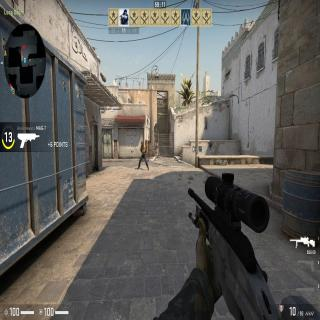T-Body: (137, 140, 149, 171)
T-Head: (141, 140, 144, 145)
